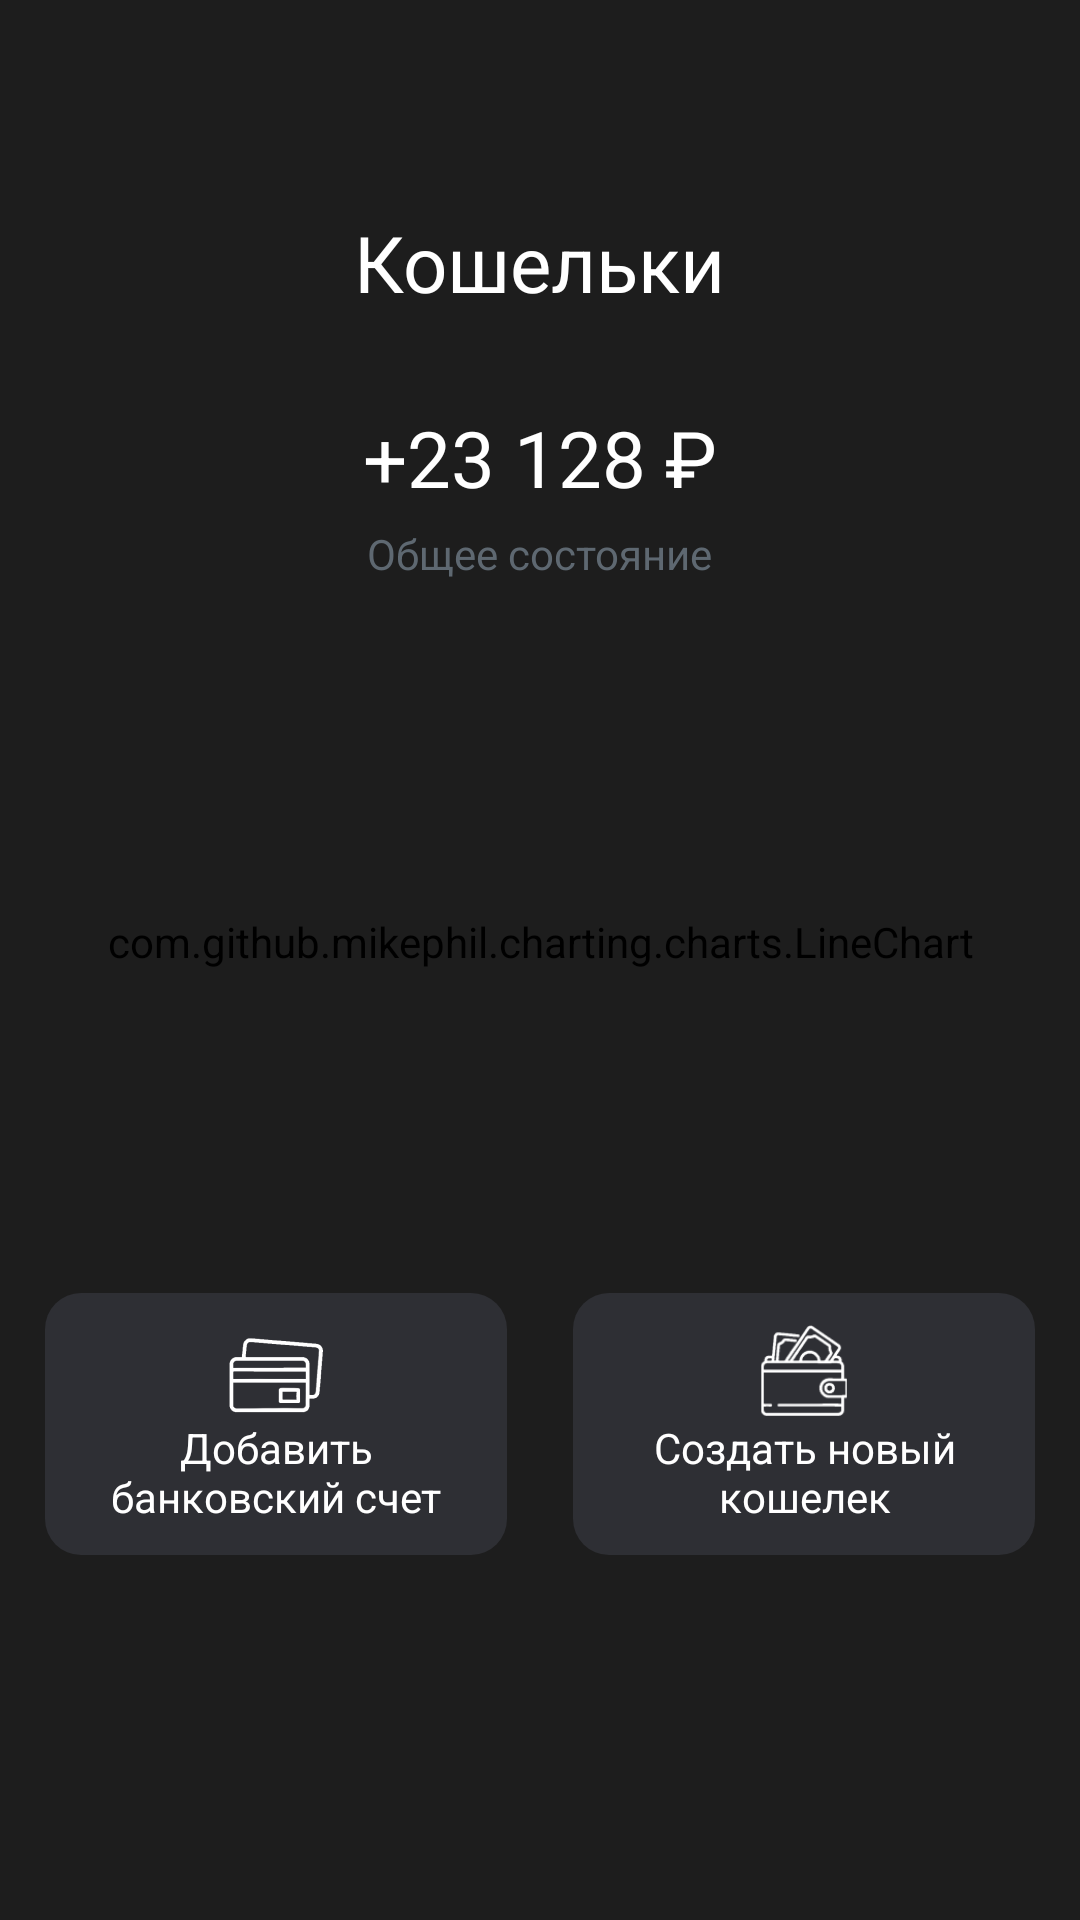

Named icons in this screenshot (1080 × 1920) and their bounding boxes, (left=x1, top=y1, right=x2, bottom=y2):
cards: (left=229, top=1338, right=323, bottom=1413)
wallet: (left=761, top=1325, right=847, bottom=1416)
